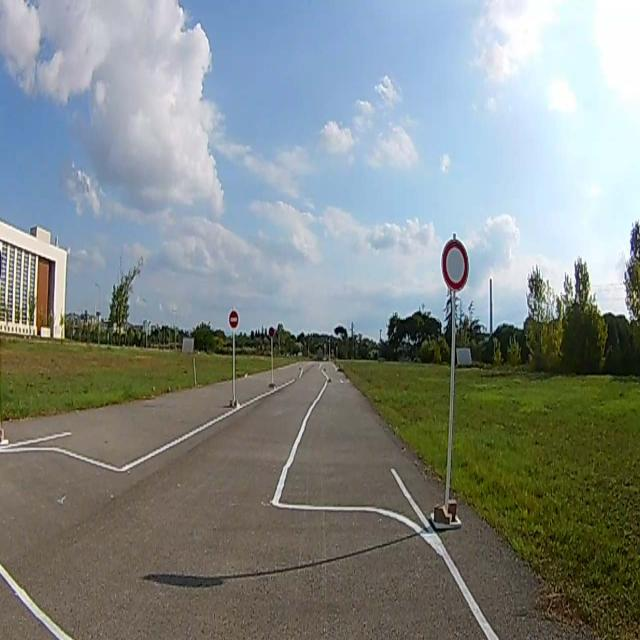girisyok: (228, 311, 238, 328)
